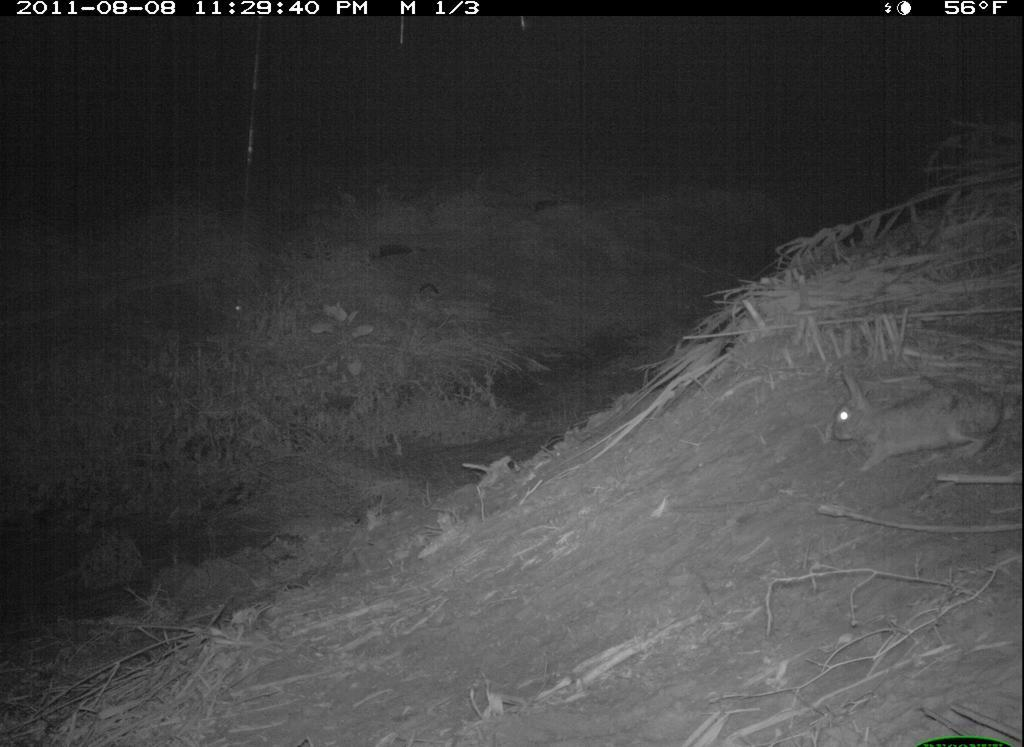rabbit: (804, 359, 1017, 481)
